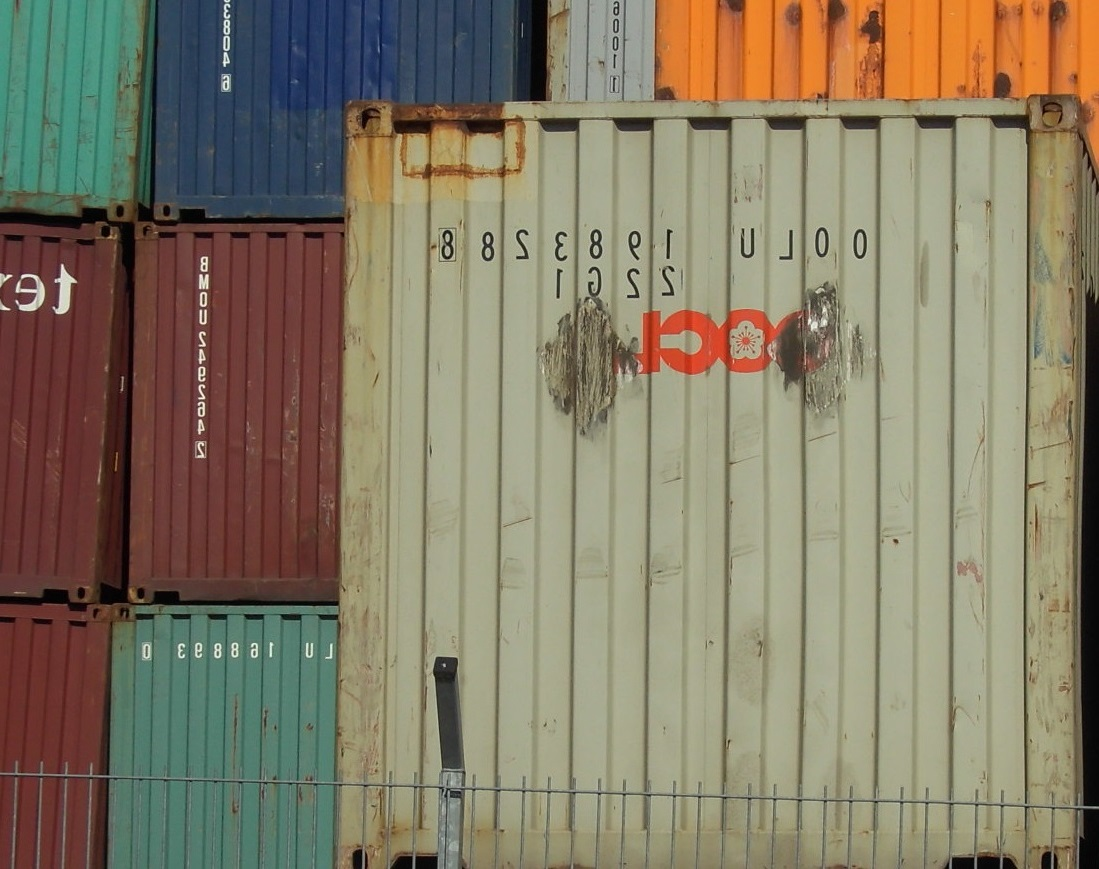container_no_door: (339, 93, 1077, 869), (147, 4, 520, 217), (134, 227, 335, 601), (113, 609, 339, 869), (1, 222, 125, 605), (1, 1, 146, 218)
